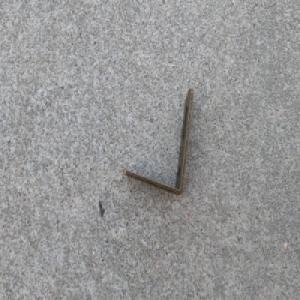MetalPart: (124, 86, 195, 196)
